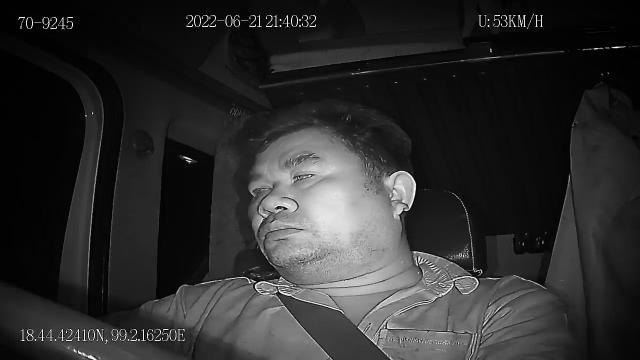SafeDriving: (288, 162, 325, 190)
Seatbelt: (280, 294, 392, 360)
